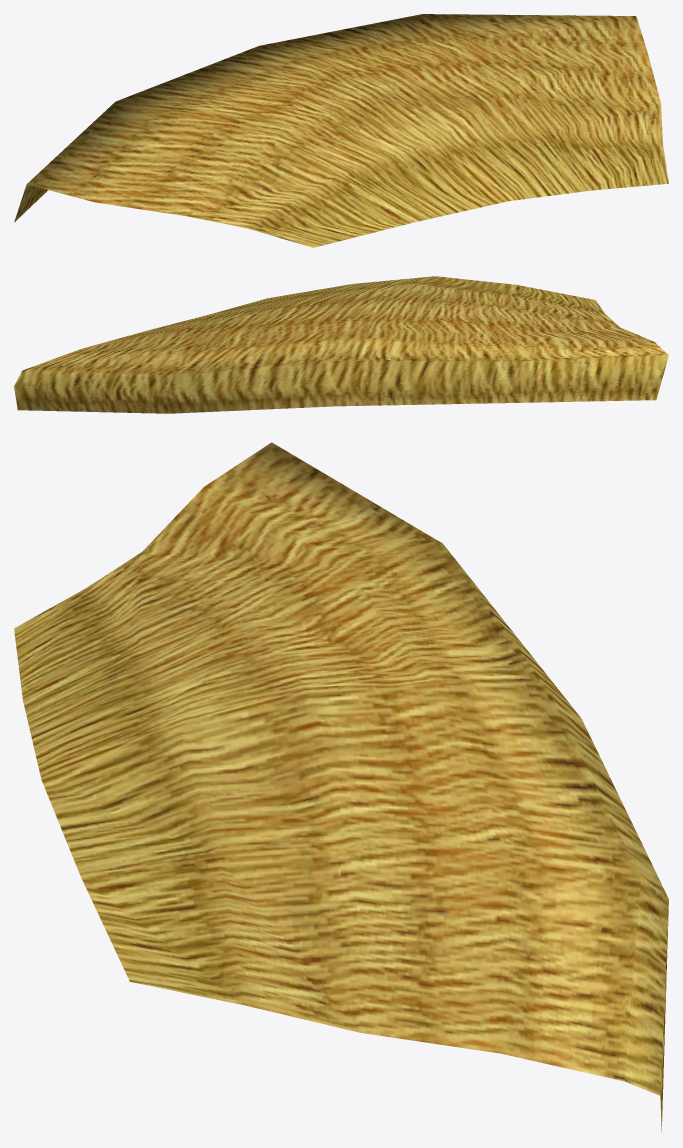
The model's file is HTOWN01_BAGROW1AWNING2.fbx.
3 views of the same model, one above another, from view 1: azimuth 30°, elevation 25°; view 2: azimuth 150°, elevation 25°; view 3: azimuth 270°, elevation 25° (orthographic). The views are drawn at different scales.
Parts seen in each view (by area): view 1: HTOWN01_BAGROW1AWNING2; view 2: HTOWN01_BAGROW1AWNING2; view 3: HTOWN01_BAGROW1AWNING2.
Part boxes in pixels (<box>): HTOWN01_BAGROW1AWNING2: <box>14,14,668,247</box>; HTOWN01_BAGROW1AWNING2: <box>14,276,668,413</box>; HTOWN01_BAGROW1AWNING2: <box>14,442,668,1131</box>.
Bounding box in the file's own units: 49241 × 9461 × 27614.
2 materials, 2 textured.
